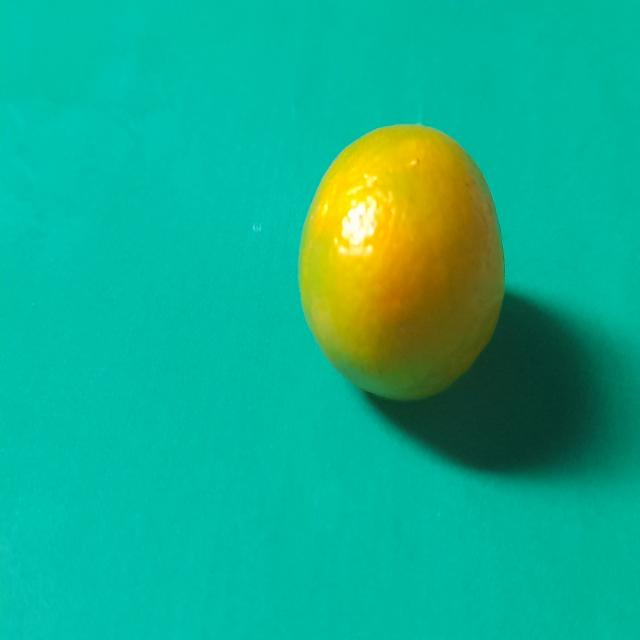greening: (301, 122, 497, 412)
